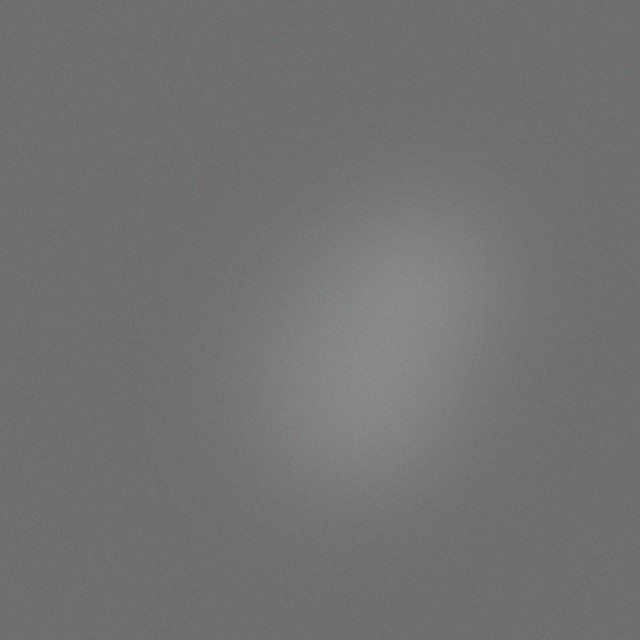smoke: (290, 269, 510, 489)
